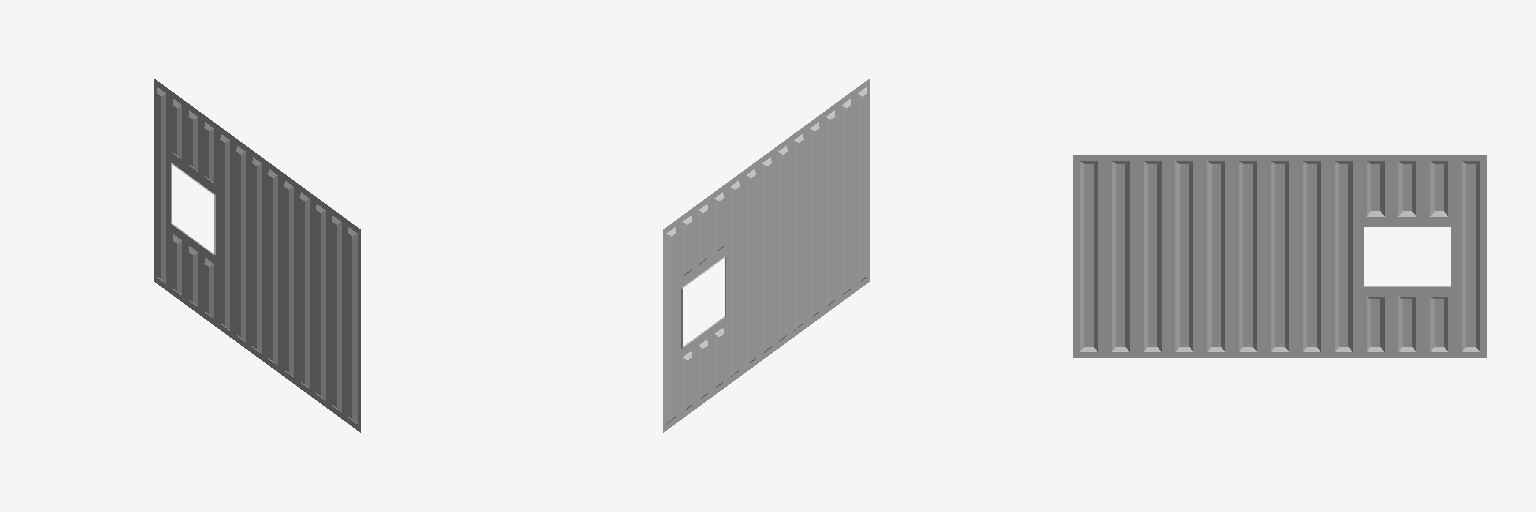
Rendered from ContainerBack.obj.
3 views of the same model, side by side, from view 1: azimuth 30°, elevation 25°; view 2: azimuth 150°, elevation 25°; view 3: azimuth 270°, elevation 25° (orthographic).
Visible parts, largest first — view 1: Object001; view 2: Object001; view 3: Object001.
Part boxes in pixels (x1,y1,x2,y2): Object001: (154, 79, 360, 432); Object001: (663, 79, 869, 432); Object001: (1073, 155, 1486, 357).
Size of the model in its own units: 4 by 260 by 480.